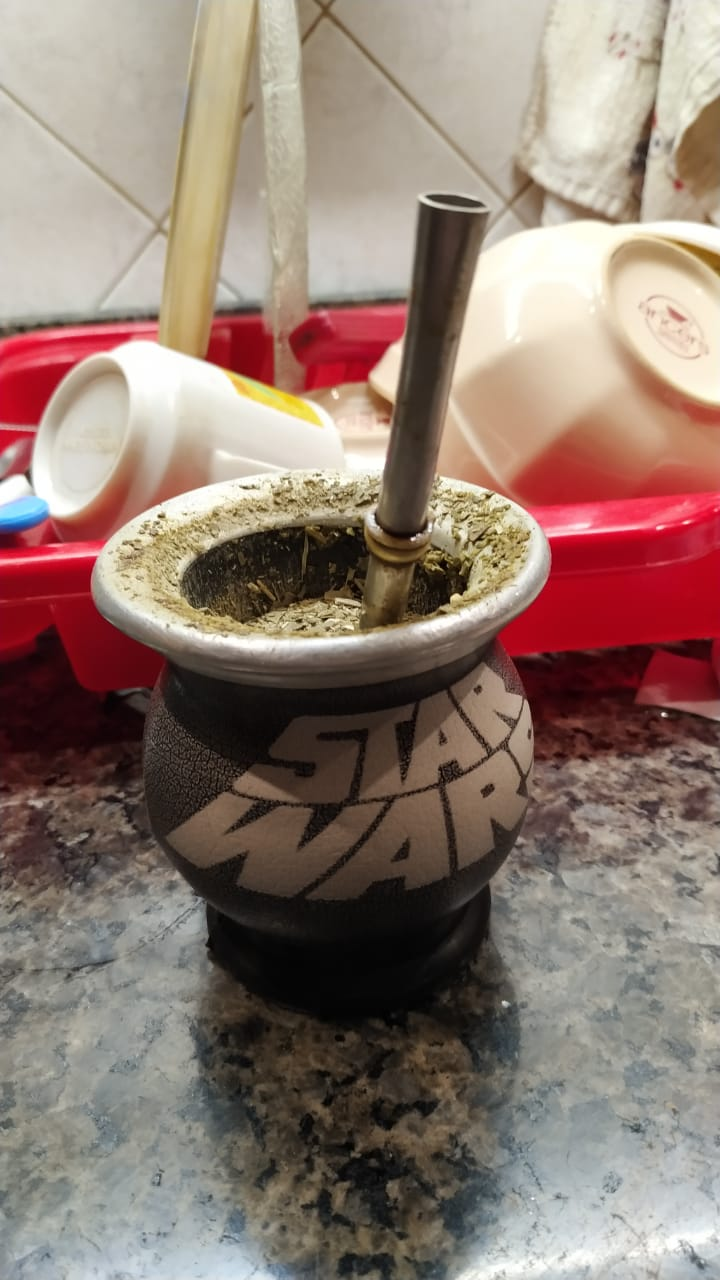madera: (84, 180, 557, 1022)
mate: (86, 182, 559, 1024)
